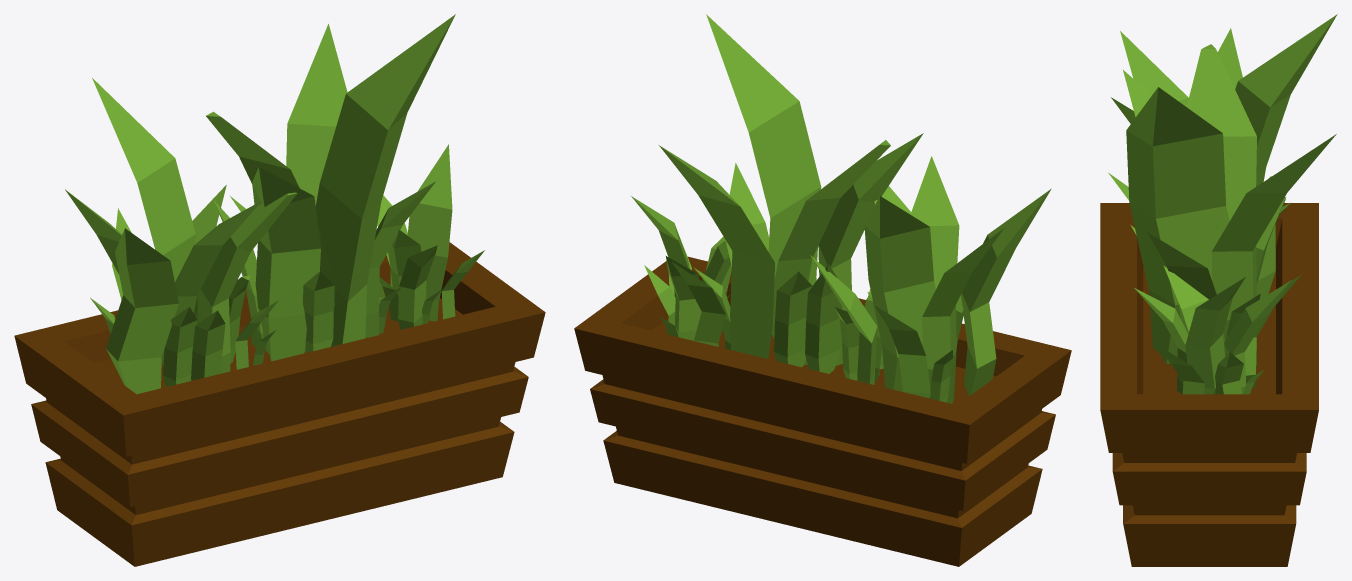
The model's file is Flower2.fbx.
The picture shows the model from 3 angles, left to right: view 1: azimuth 30°, elevation 25°; view 2: azimuth 150°, elevation 25°; view 3: azimuth 270°, elevation 25°; orthographic projection. The views are drawn at different scales.
Visible parts, largest first — view 1: Cube.027; view 2: Cube.027; view 3: Cube.027.
Boxes of the visible parts, x1=… form: Cube.027: x1=14, y1=14, x2=545, y2=566; Cube.027: x1=574, y1=14, x2=1071, y2=566; Cube.027: x1=1100, y1=14, x2=1337, y2=566.
Size of the model in its own units: 79.7 by 83.25 by 38.64.
